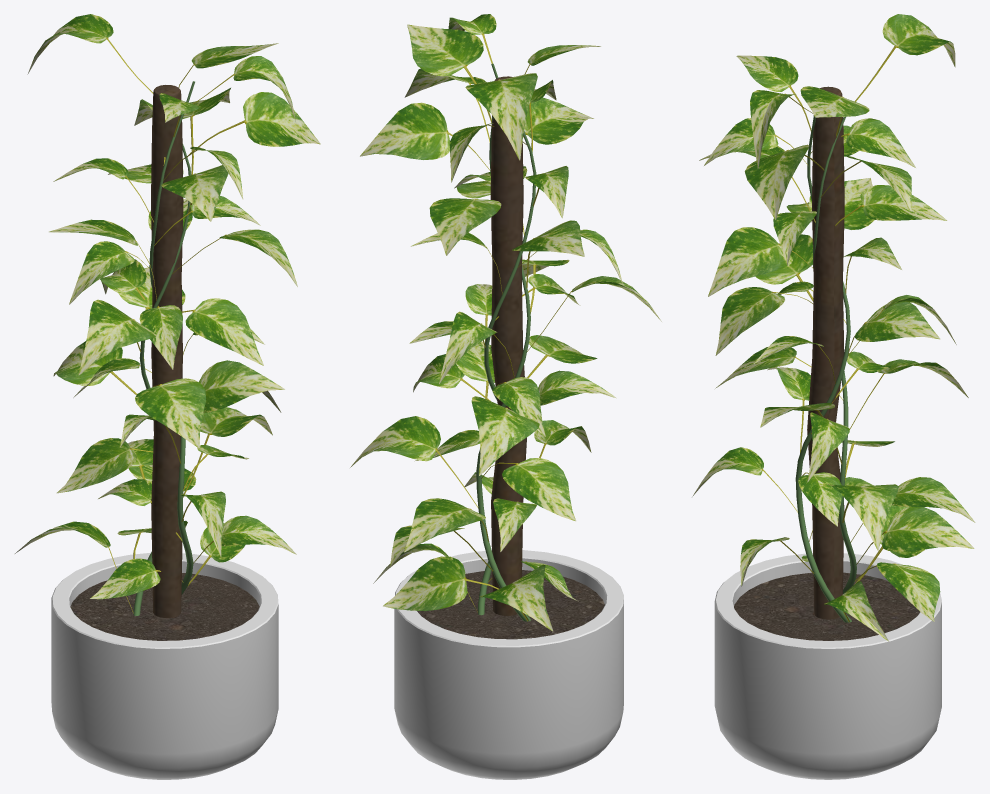
Rendered from plant6.glb.
The picture shows the model from 3 angles, left to right: view 1: azimuth 30°, elevation 25°; view 2: azimuth 150°, elevation 25°; view 3: azimuth 270°, elevation 25°; orthographic projection.
Visible parts, largest first — view 1: Epipremium.001; view 2: Epipremium.001; view 3: Epipremium.001.
Boxes of the visible parts, box(x1,y1,x2,y2) form: Epipremium.001: box(15, 14, 320, 779); Epipremium.001: box(350, 14, 661, 779); Epipremium.001: box(692, 14, 975, 779).
Bounding box in the file's own units: 0.2855 × 0.7612 × 0.2798.
Materials: 6 (4 with a texture image).
